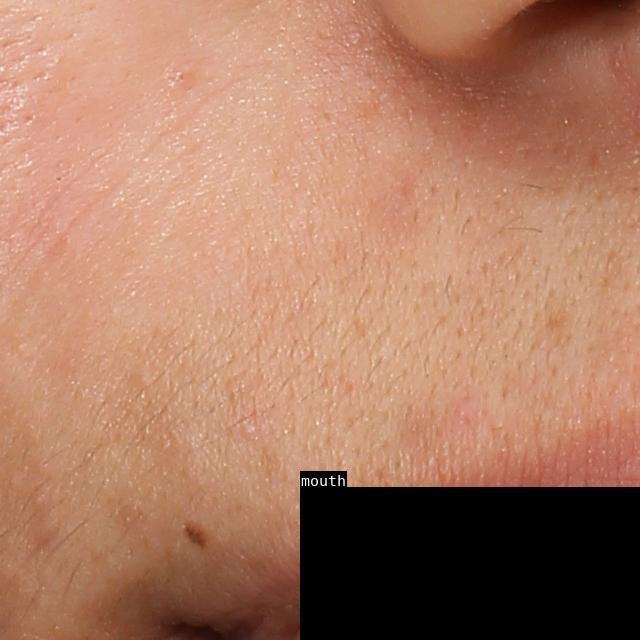nevus: (180, 521, 211, 551)
